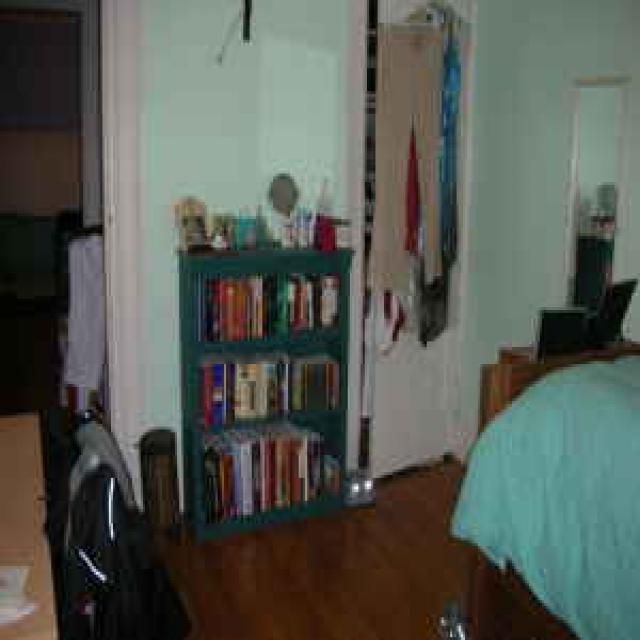basket crop: (134, 421, 179, 521)
bed frame: (450, 353, 634, 634)
books crop: (203, 427, 331, 512), (265, 276, 339, 333), (201, 279, 265, 338), (241, 361, 292, 415), (294, 358, 341, 415), (198, 358, 235, 424)
bookshelf: (173, 222, 348, 532)
floor -X: (4, 404, 636, 637)
furniture toy: (476, 208, 627, 435)
mirror crop: (563, 77, 631, 333)
object: (2, 0, 66, 412)
photograph: (173, 191, 207, 253)
table lamp: (2, 404, 55, 637)
trousers occluded: (371, 23, 442, 287)
wall clock: (452, 0, 636, 466), (109, 0, 258, 512), (256, 0, 354, 492), (64, 0, 115, 509)
